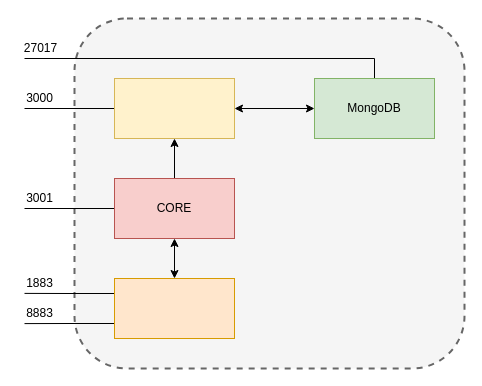
Image size: 482x386. Some labels were removed from this diagram. Here are the shapes that lost their labels. From the top down, the centre of each, then its label:
At point 174,108: "API".
At point 174,308: "Mosquitto".
